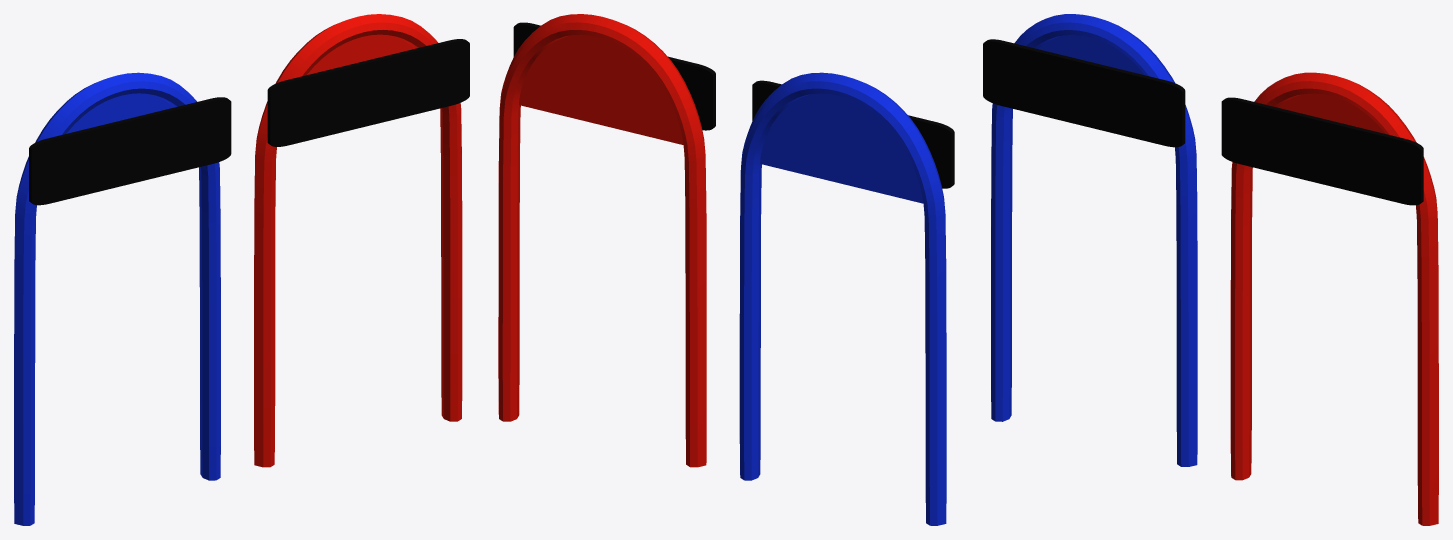
Rendered from Arch2.fbx.
3 renders of one model, left to right at view 1: azimuth 30°, elevation 25°; view 2: azimuth 150°, elevation 25°; view 3: azimuth 330°, elevation 25°, orthographic.
Visible parts, largest first — view 1: Arch2, Arch, Plate, Plate2; view 2: Arch2, Arch, Plate, Plate2; view 3: Arch2, Arch, Plate2, Plate.
Boxes of the visible parts, x1,y1,x2,y2 form: Arch2: [254, 14, 462, 467]; Arch: [14, 72, 220, 525]; Plate: [29, 97, 231, 205]; Plate2: [267, 39, 469, 146]; Arch2: [498, 14, 706, 467]; Arch: [739, 72, 946, 525]; Plate: [752, 80, 954, 188]; Plate2: [513, 22, 715, 130]; Arch2: [1230, 72, 1438, 525]; Arch: [991, 14, 1197, 466]; Plate2: [1221, 97, 1423, 205]; Plate: [983, 39, 1185, 147].
Bounding box in the file's own units: 82.48 × 74.43 × 6.09.
